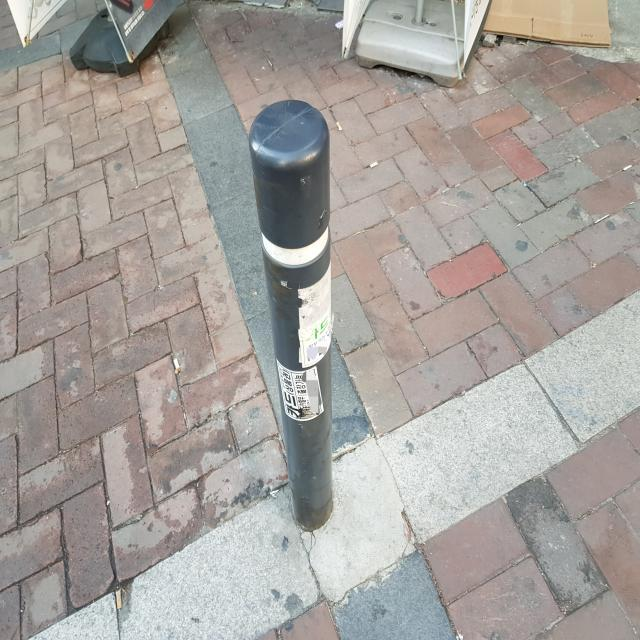pole: (248, 98, 336, 530)
